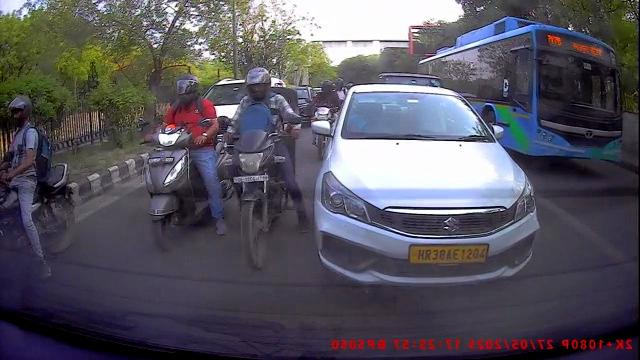motorcycle_with_helmet: (218, 64, 306, 271), (142, 74, 228, 252), (309, 78, 343, 161)
